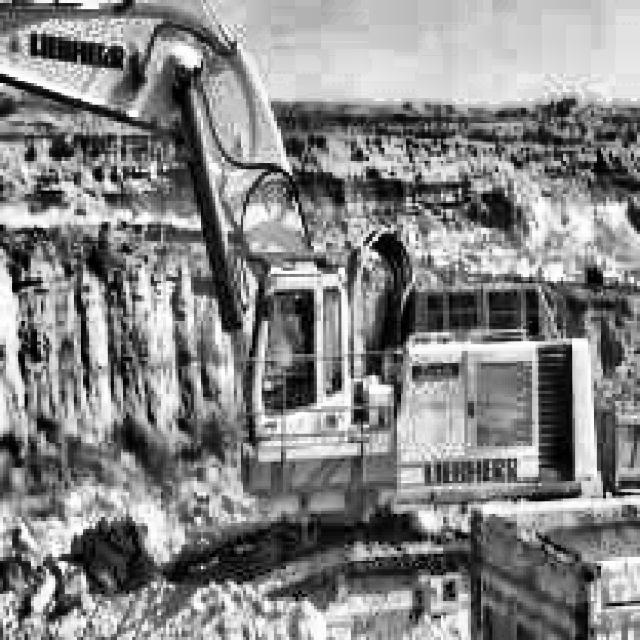excavator: (0, 0, 600, 625)
